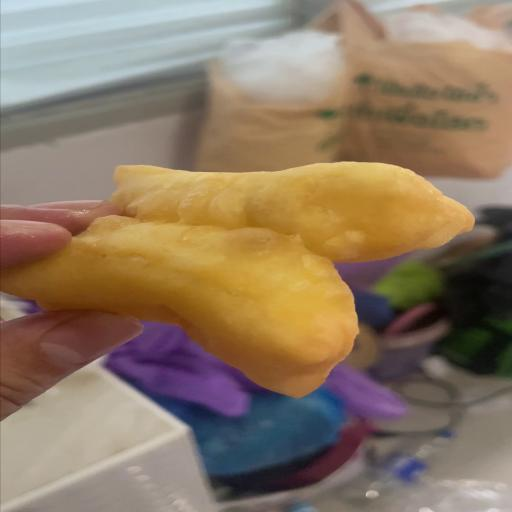street_golden_good: (2, 163, 474, 396)
